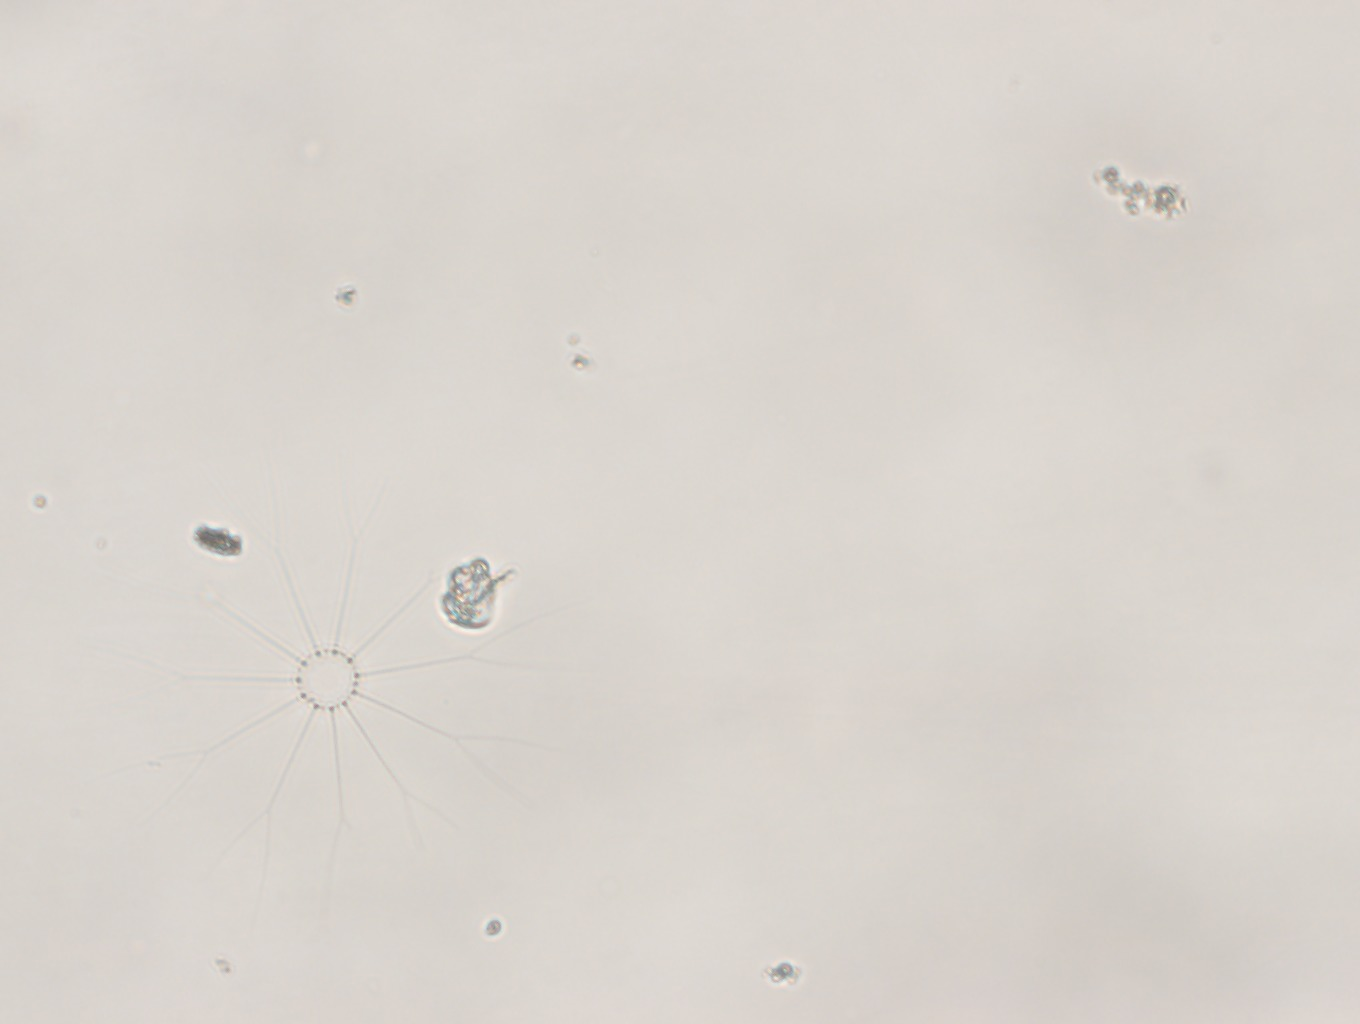bacteriastrum: (166, 547, 556, 907)
